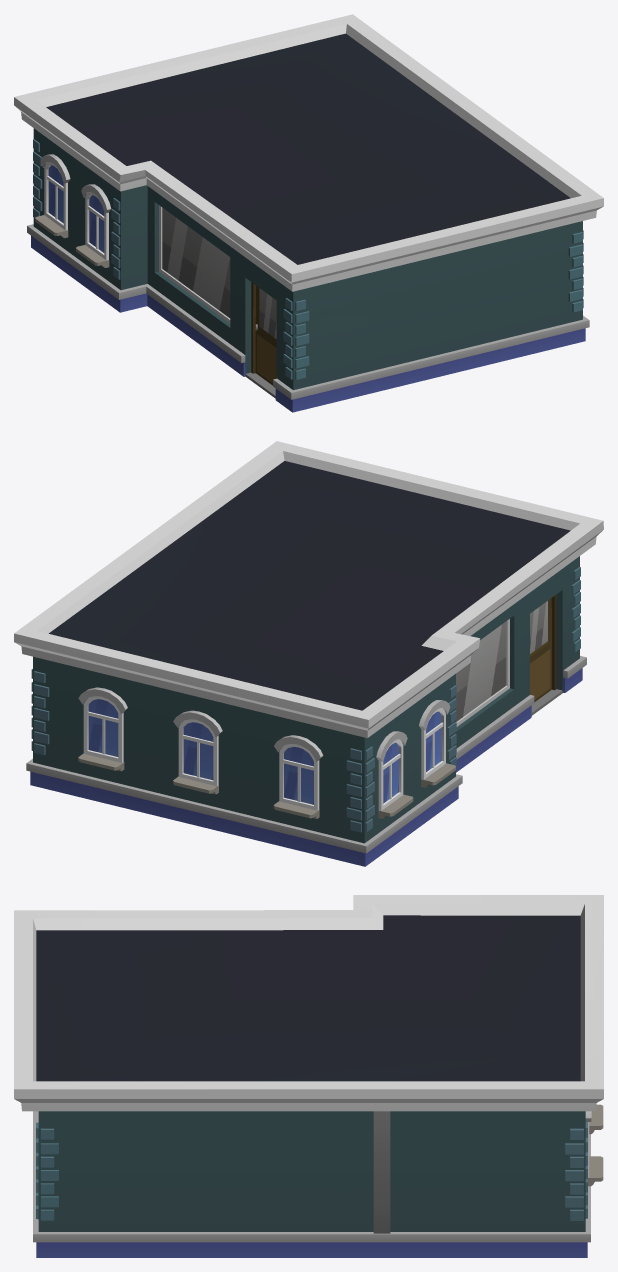
The model's file is Building_1_1_B.fbx.
3 views of the same model, one above another, from view 1: azimuth 30°, elevation 25°; view 2: azimuth 150°, elevation 25°; view 3: azimuth 270°, elevation 25° (orthographic). The views are drawn at different scales.
Visible parts, largest first — view 1: Building_1_1_B; view 2: Building_1_1_B; view 3: Building_1_1_B.
Part boxes in pixels (x1,y1,x2,y2): Building_1_1_B: (14,14,603,412); Building_1_1_B: (14,441,603,866); Building_1_1_B: (14,895,603,1257).
Bounding box in the file's own units: 822 × 341 × 1051.
